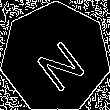N_NW: (25, 26, 86, 90)
